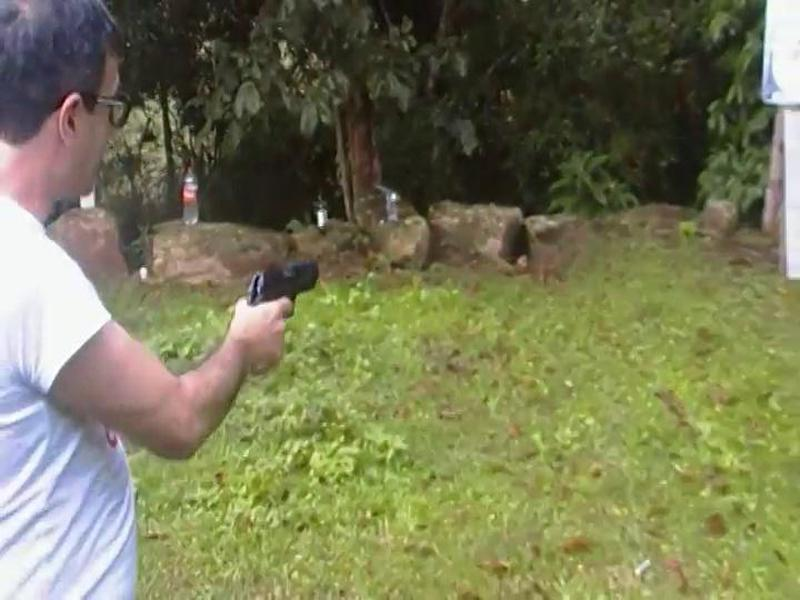Pistola: (212, 225, 348, 352)
